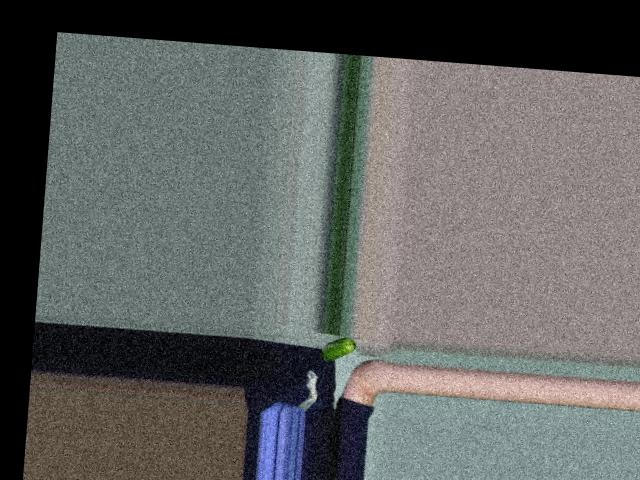cucumber: (321, 334, 357, 362)
